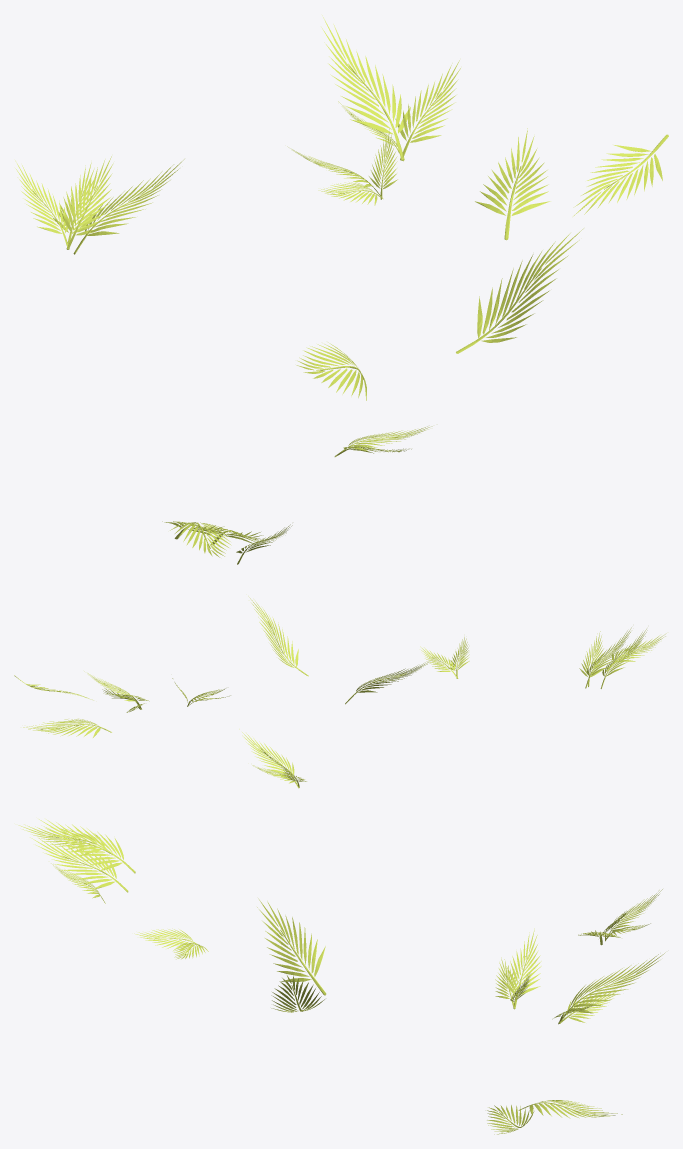
Rendered from Plants.fbx.
3 renders of one model, top to bottom at view 1: azimuth 30°, elevation 25°; view 2: azimuth 150°, elevation 25°; view 3: azimuth 270°, elevation 25°, orthographic. The views are drawn at different scales.
Parts seen in each view (by area): view 1: Plant.019, Plant, Plant.018, Plant.017, Plant.001, Plant.012, Plant.015, Plant.010, Plant.014, Plant.006, Plant.013; view 2: Plant.019, Plant.018, Plant.012, Plant.010, Plant.011, Plant.006, Plant.016, Plant.009, Plant.008, Plant.007; view 3: Plant.010, Plant.011, Plant, Plant.016, Plant.003, Plant.019, Plant.006, Plant.018, Plant.017, Plant.007, Plant.014, Plant.002.
Boxes of the visible parts, <box> form: Plant.019: <box>456,228,583,353</box>; Plant: <box>321,15,410,161</box>; Plant.018: <box>475,128,550,240</box>; Plant.017: <box>573,134,668,216</box>; Plant.001: <box>395,60,460,160</box>; Plant.012: <box>73,159,184,254</box>; Plant.015: <box>60,156,113,249</box>; Plant.010: <box>296,342,366,400</box>; Plant.014: <box>15,160,69,249</box>; Plant.006: <box>170,522,231,557</box>; Plant.013: <box>53,162,98,249</box>; Plant.019: <box>248,596,308,676</box>; Plant.018: <box>23,718,111,737</box>; Plant.012: <box>239,729,298,788</box>; Plant.010: <box>345,660,431,704</box>; Plant.011: <box>585,627,631,688</box>; Plant.006: <box>606,633,666,671</box>; Plant.016: <box>600,629,647,688</box>; Plant.009: <box>579,631,604,686</box>; Plant.008: <box>420,646,458,678</box>; Plant.007: <box>448,637,469,678</box>; Plant.010: <box>257,898,326,995</box>; Plant.011: <box>30,837,128,892</box>; Plant: <box>558,952,665,1024</box>; Plant.016: <box>39,819,135,873</box>; Plant.003: <box>500,928,541,1009</box>; Plant.019: <box>271,975,324,1012</box>; Plant.006: <box>18,824,118,858</box>; Plant.018: <box>518,1100,622,1118</box>; Plant.017: <box>487,1105,534,1134</box>; Plant.007: <box>134,928,201,953</box>; Plant.014: <box>605,889,662,941</box>; Plant.002: <box>559,988,621,1023</box>.
Size of the model in its own units: 896 by 939 by 196.
